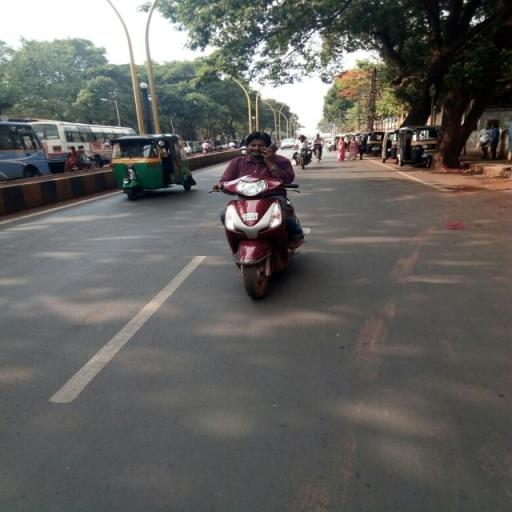using mobile: (262, 141, 280, 157)
